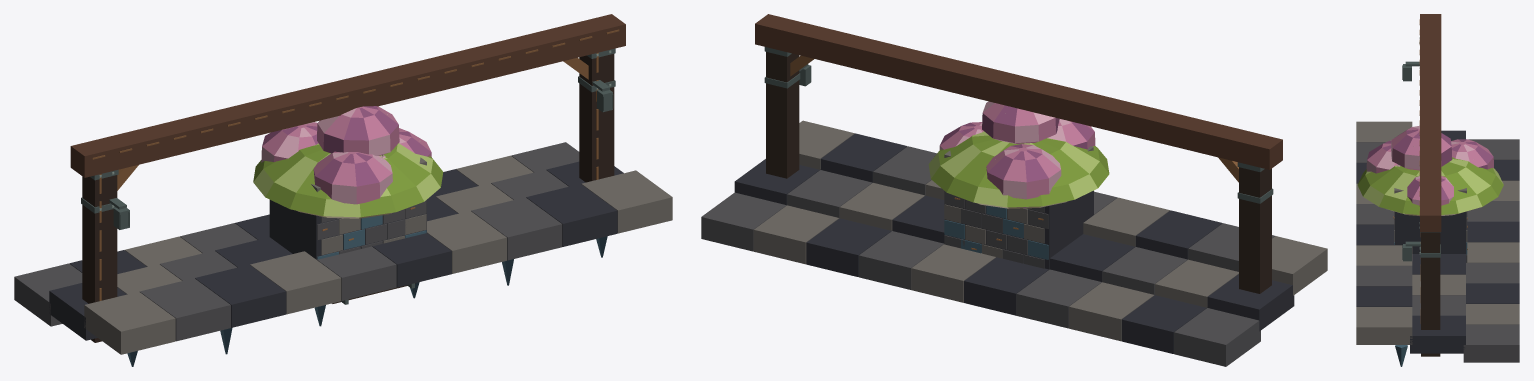
The model's file is world-feedback-kit.glb.
3 renders of one model, left to right at view 1: azimuth 30°, elevation 25°; view 2: azimuth 150°, elevation 25°; view 3: azimuth 270°, elevation 25°, orthographic. The views are drawn at different scales.
Visible parts, largest first — view 1: feedback-cave-roof-decoration, feedback-mine-frame-decoration, feedback-candy-tree-decoration, feedback-slime-mushroom-decoration, feedback-site-wall-decoration; view 2: feedback-cave-roof-decoration, feedback-mine-frame-decoration, feedback-site-wall-decoration, feedback-slime-mushroom-decoration, feedback-candy-tree-decoration; view 3: feedback-cave-roof-decoration, feedback-mine-frame-decoration, feedback-slime-mushroom-decoration, feedback-candy-tree-decoration, feedback-site-wall-decoration.
Part boxes in pixels (x1,y1,x2,y2): feedback-cave-roof-decoration: (14,142,672,366); feedback-mine-frame-decoration: (70,14,625,342); feedback-candy-tree-decoration: (261,106,431,204); feedback-slime-mushroom-decoration: (253,143,443,218); feedback-site-wall-decoration: (269,157,426,259); feedback-cave-roof-decoration: (701,120,1327,366); feedback-mine-frame-decoration: (755,14,1282,293); feedback-site-wall-decoration: (944,146,1093,269); feedback-slime-mushroom-decoration: (928,131,1109,208); feedback-candy-tree-decoration: (939,101,1095,208); feedback-cave-roof-decoration: (1356,121,1519,366); feedback-mine-frame-decoration: (1402,14,1441,356); feedback-slime-mushroom-decoration: (1357,157,1503,215); feedback-candy-tree-decoration: (1366,126,1493,205); feedback-site-wall-decoration: (1393,188,1467,262).
Size of the model in its own units: 19.98 by 7.63 by 6.7.
